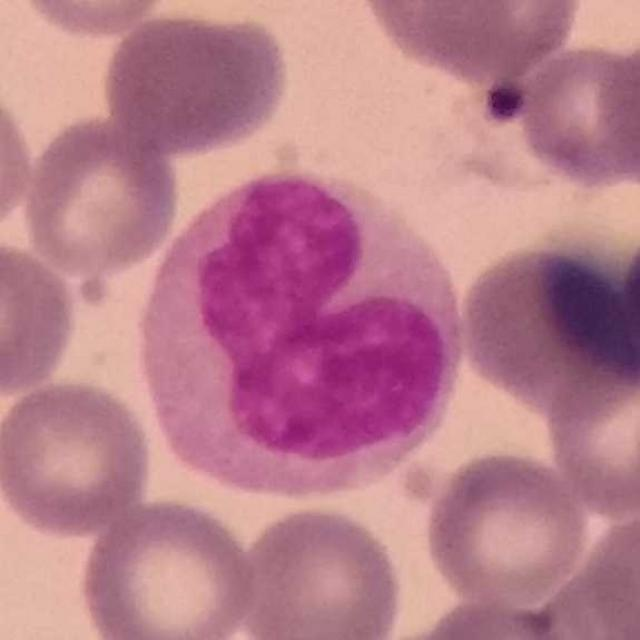mono: (142, 164, 467, 505)
